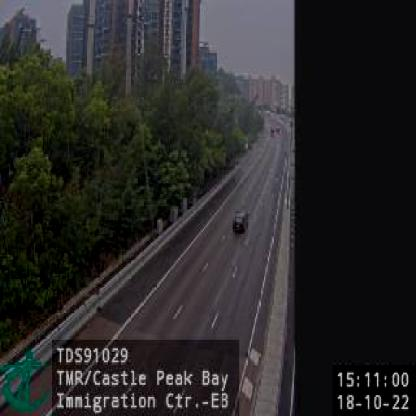Car: (233, 208, 251, 232)
